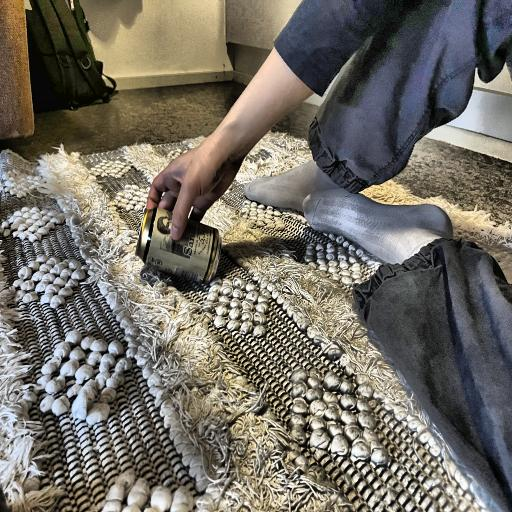sandels: (135, 202, 226, 285)
